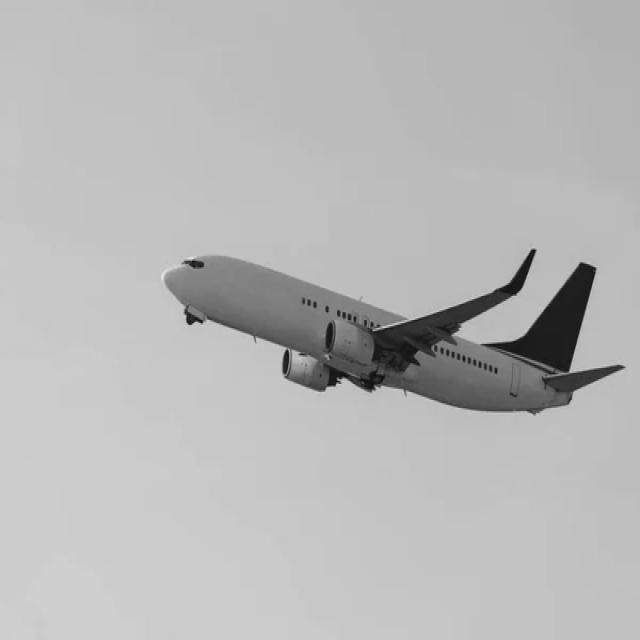Aircraft: (159, 222, 629, 437)
